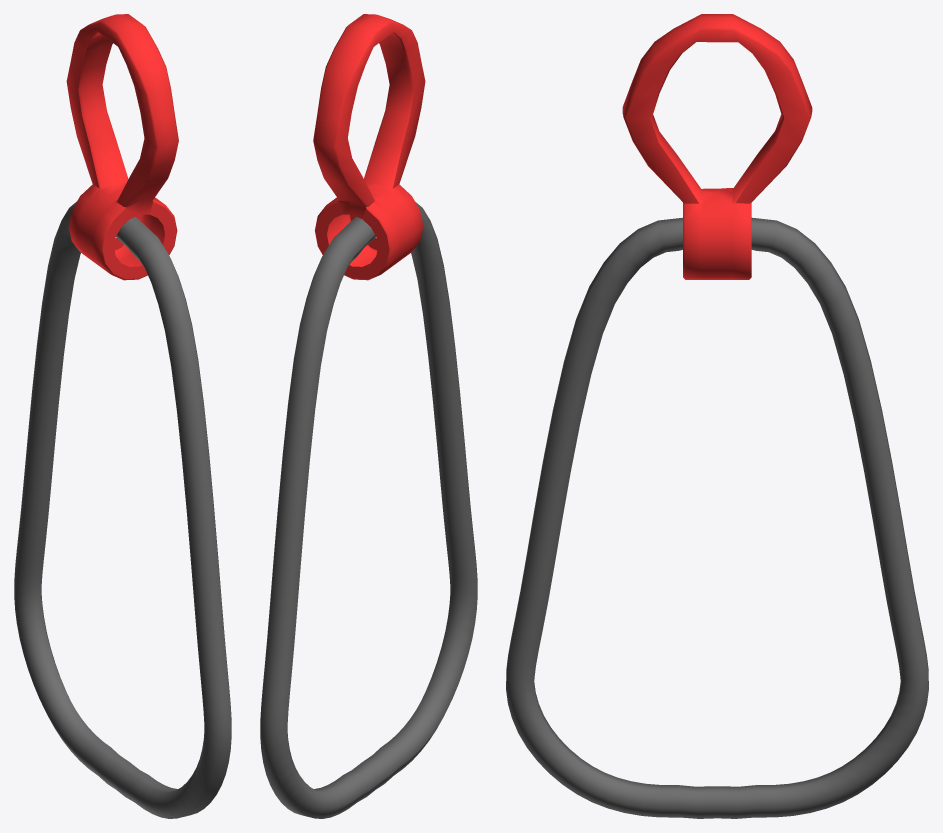
File: Bracket.fbx
3 views of the same model, side by side, from view 1: azimuth 30°, elevation 25°; view 2: azimuth 150°, elevation 25°; view 3: azimuth 270°, elevation 25° (orthographic). The views are drawn at different scales.
Parts seen in each view (by area): view 1: Bracket2, Bracket1; view 2: Bracket2, Bracket1; view 3: Bracket2, Bracket1.
Part boxes in pixels (x1=…): Bracket2: x1=14, y1=201, x2=231, y2=818; Bracket1: x1=66, y1=14, x2=178, y2=280; Bracket2: x1=260, y1=202, x2=477, y2=818; Bracket1: x1=313, y1=14, x2=425, y2=280; Bracket2: x1=506, y1=217, x2=928, y2=818; Bracket1: x1=622, y1=14, x2=812, y2=279.
Bounding box in the file's own units: 30.15 × 285 × 137.
